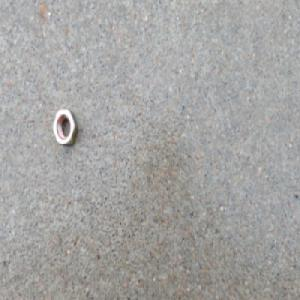Nut: (50, 107, 78, 149)
